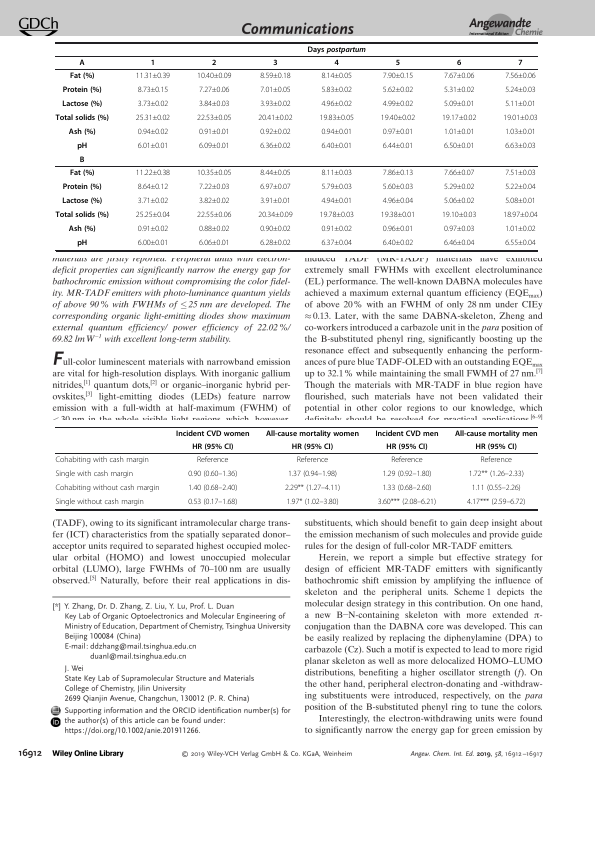borderless: (55, 41, 537, 250), (54, 425, 537, 509)
cell: (54, 483, 160, 493), (54, 455, 150, 465), (55, 497, 145, 507), (265, 429, 360, 438), (54, 469, 134, 479), (454, 429, 538, 438), (175, 429, 250, 438), (377, 497, 437, 507), (466, 497, 526, 507), (374, 429, 439, 438), (468, 469, 525, 479), (284, 483, 341, 493), (55, 113, 110, 123), (55, 210, 110, 220), (307, 45, 367, 54), (285, 497, 339, 507), (187, 469, 238, 479), (287, 469, 338, 479), (381, 469, 432, 479), (187, 483, 238, 493), (381, 483, 432, 493), (471, 483, 522, 493), (187, 497, 238, 507), (191, 442, 234, 452), (291, 442, 334, 452), (385, 442, 428, 452), (475, 442, 518, 452), (61, 99, 103, 109), (61, 196, 103, 206), (62, 85, 102, 95), (62, 182, 102, 192), (390, 455, 424, 465), (479, 455, 513, 465), (196, 455, 229, 465), (296, 455, 329, 465), (68, 127, 96, 137), (68, 224, 96, 234), (69, 71, 95, 81), (69, 168, 95, 178), (135, 72, 171, 79), (196, 72, 232, 79), (135, 114, 171, 121), (196, 114, 232, 121), (257, 114, 293, 121), (319, 114, 355, 121), (380, 114, 416, 121), (441, 114, 477, 121), (502, 114, 538, 121), (135, 169, 171, 176), (196, 169, 232, 176), (135, 211, 171, 218), (196, 211, 232, 218), (257, 211, 293, 218), (319, 211, 355, 218), (380, 211, 416, 218), (441, 211, 477, 218), (502, 211, 538, 218), (259, 72, 292, 79), (320, 72, 353, 79), (504, 72, 537, 79), (259, 86, 292, 93), (320, 86, 353, 93), (504, 86, 537, 93), (259, 100, 292, 107), (320, 100, 353, 107), (504, 100, 537, 107), (259, 128, 292, 135), (320, 128, 353, 135), (504, 128, 537, 135), (259, 142, 292, 149), (320, 142, 353, 149), (504, 142, 537, 149), (259, 169, 292, 176), (320, 169, 353, 176), (504, 169, 537, 176), (259, 183, 292, 190), (320, 183, 353, 190), (504, 183, 537, 190), (259, 197, 292, 204), (320, 197, 353, 204), (504, 197, 537, 204), (259, 225, 292, 232), (320, 225, 353, 232), (504, 225, 537, 232), (259, 239, 292, 246), (320, 239, 353, 246), (504, 239, 537, 246), (382, 72, 414, 79), (443, 72, 475, 79), (137, 86, 169, 93), (198, 86, 230, 93), (382, 86, 414, 93), (443, 86, 475, 93), (137, 100, 169, 107), (198, 100, 230, 107), (382, 100, 414, 107), (443, 100, 475, 107), (137, 128, 169, 135), (198, 128, 230, 135), (382, 128, 414, 135), (443, 128, 475, 135), (137, 142, 169, 149), (198, 142, 230, 149), (382, 142, 414, 149), (443, 142, 475, 149), (382, 169, 414, 176), (443, 169, 475, 176), (137, 183, 169, 190), (198, 183, 230, 190), (382, 183, 414, 190), (443, 183, 475, 190), (137, 197, 169, 204), (198, 197, 230, 204), (382, 197, 414, 204), (443, 197, 475, 204), (137, 225, 169, 232), (198, 225, 230, 232), (382, 225, 414, 232), (443, 225, 475, 232), (137, 239, 169, 246), (198, 239, 230, 246), (382, 239, 414, 246), (443, 239, 475, 246), (76, 141, 88, 151), (76, 238, 88, 248), (79, 58, 86, 68), (333, 58, 340, 68), (150, 58, 156, 68), (211, 58, 217, 68), (272, 58, 278, 68), (395, 58, 401, 68), (456, 58, 462, 68), (517, 58, 523, 68), (79, 155, 85, 165)
